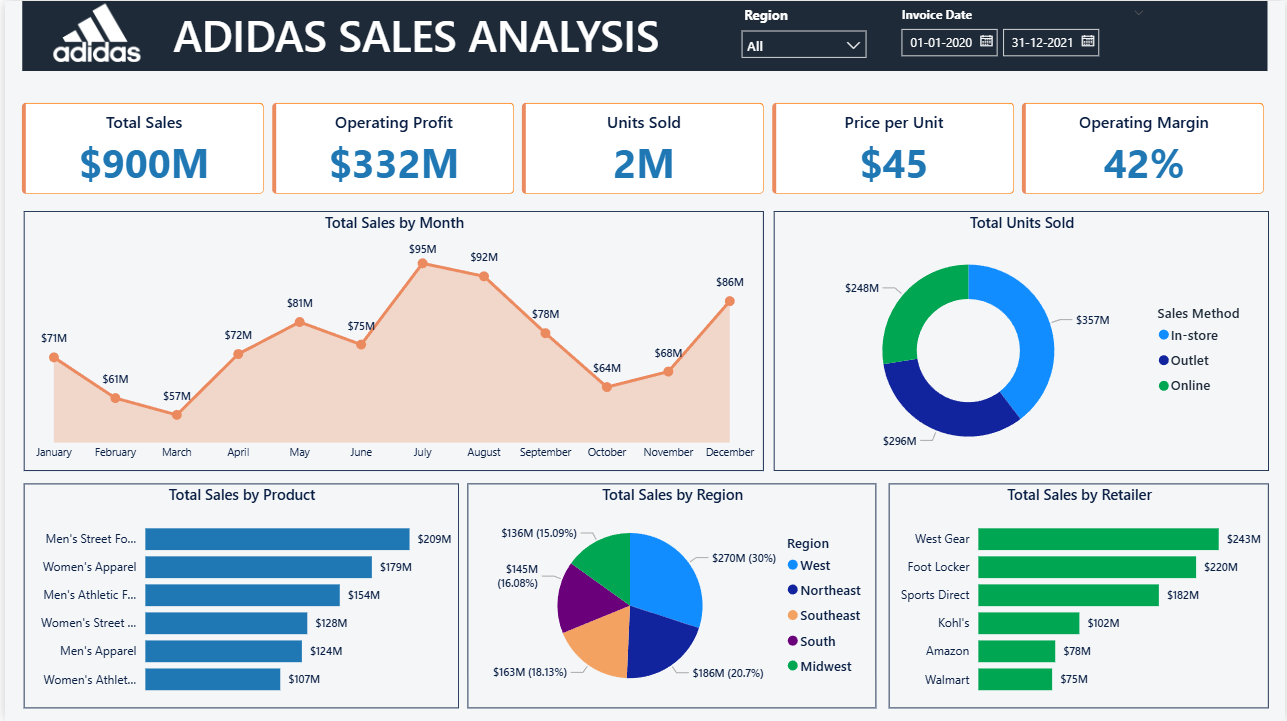

What the dashboard file says about the page in this screenshot:
{"tool":"powerbi","page":{"name":"Dashboard","canvas":[1280,720],"ordinal":0},"visuals":[{"type":"shape","box":[17.5,0,1245,70],"z":0},{"type":"textbox","box":[78.8,0,665,85],"z":1},{"type":"cardVisual","fields":{"Data":["Sum(Data Sales Adidas.Total Sales)","Sum(Data Sales Adidas.Operating Profit)","Sum(Data Sales Adidas.Units Sold)","Avg(Data Sales Adidas.Price per Unit)","Avg(Data Sales Adidas.Operating Margin)"]},"box":[0,85,1280,125],"z":2},{"type":"areaChart","title":"Total Sales by Month","fields":{"Category":["Data Sales Adidas.Invoice Date.Variation.Date Hierarchy.Month"],"Y":["Sum(Data Sales Adidas.Total Sales)"]},"box":[18.8,210,740,260],"z":3},{"type":"donutChart","title":"Total Units Sold","fields":{"Y":["Measure.Total Sales"],"Category":["Data Sales Adidas.Sales Method"]},"box":[768.8,210,495,260],"z":4},{"type":"pieChart","fields":{"Category":["Data Sales Adidas.Region"],"Y":["Measure.Total Sales"]},"box":[462.5,482.5,408.8,225],"z":5},{"type":"barChart","fields":{"Category":["Data Sales Adidas.Product"],"Y":["Measure.Total Sales"]},"box":[18.8,482.5,435,225],"z":6},{"type":"barChart","fields":{"Category":["Data Sales Adidas.Retailer"],"Y":["Measure.Total Sales"]},"box":[883.8,482.5,380,225],"z":7},{"type":"slicer","fields":{"Values":["Data Sales Adidas.Region"]},"box":[726.2,0,145,70],"z":8},{"type":"slicer","fields":{"Values":["Data Sales Adidas.Invoice Date"]},"box":[883.8,0,267.5,61.2],"z":9},{"type":"image","box":[27.5,2.5,128.8,58.8],"z":10}]}

Visuals, with their boxes in screenshot pixels (x1, y1, x2, y2), scaled from the page's 1280x720 canvas onto the 1287x721 screenshot:
shape: Rect(18, 0, 1269, 70)
textbox: Rect(79, 0, 748, 85)
cardVisual - Sum(Data Sales Adidas.Total Sales) x Sum(Data Sales Adidas.Operating Profit): Rect(0, 85, 1286, 210)
"Total Sales by Month" areaChart: Rect(19, 210, 763, 471)
"Total Units Sold" donutChart: Rect(773, 210, 1271, 471)
pieChart - Data Sales Adidas.Region x Measure.Total Sales: Rect(465, 483, 876, 708)
barChart - Data Sales Adidas.Product x Measure.Total Sales: Rect(19, 483, 456, 708)
barChart - Data Sales Adidas.Retailer x Measure.Total Sales: Rect(889, 483, 1271, 708)
slicer - Data Sales Adidas.Region: Rect(730, 0, 876, 70)
slicer - Data Sales Adidas.Invoice Date: Rect(889, 0, 1158, 61)
image: Rect(28, 3, 157, 61)
